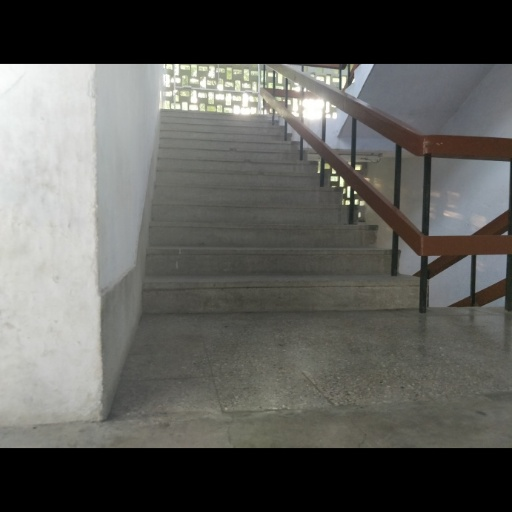Stairs: (143, 112, 417, 314)
